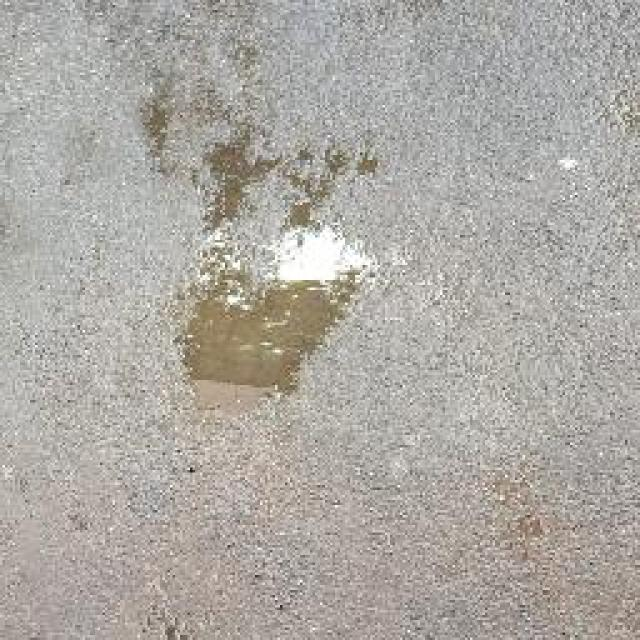puddle: (169, 202, 385, 427)
